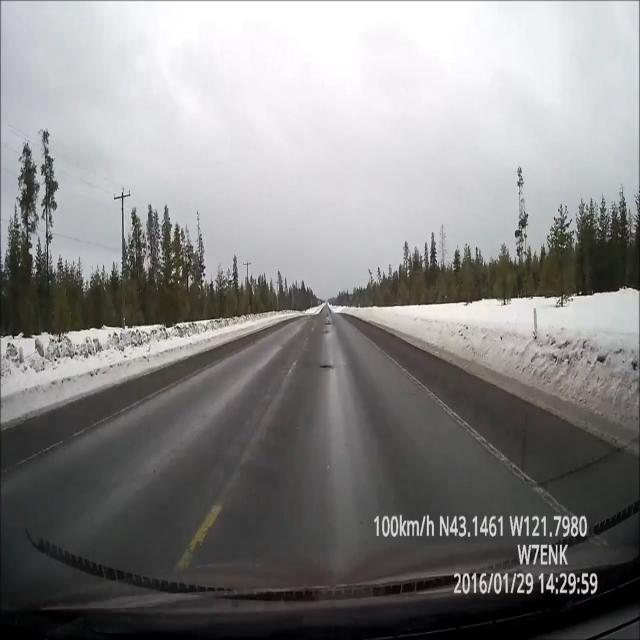Pothole: (316, 310, 338, 340)
